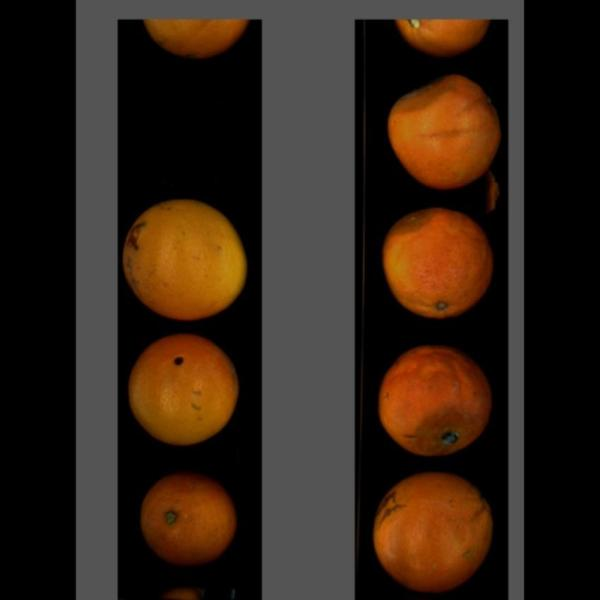Otros defectos: (370, 464, 504, 596), (119, 191, 251, 317), (378, 334, 501, 464), (382, 205, 502, 328), (123, 330, 241, 450), (384, 72, 497, 186), (130, 466, 235, 566)
Sana: (142, 18, 248, 68), (390, 19, 495, 65)
